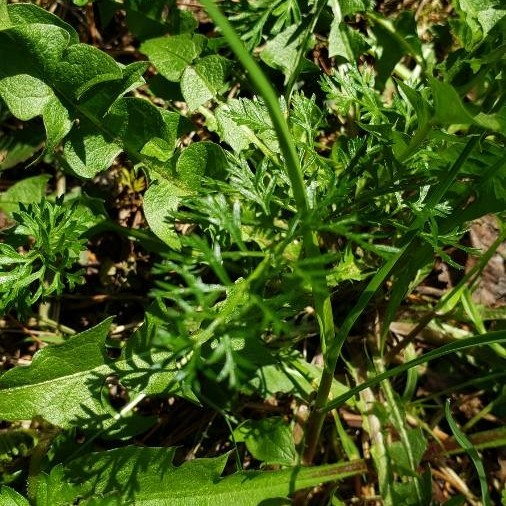obstacle: (166, 105, 425, 417), (43, 15, 199, 185)
